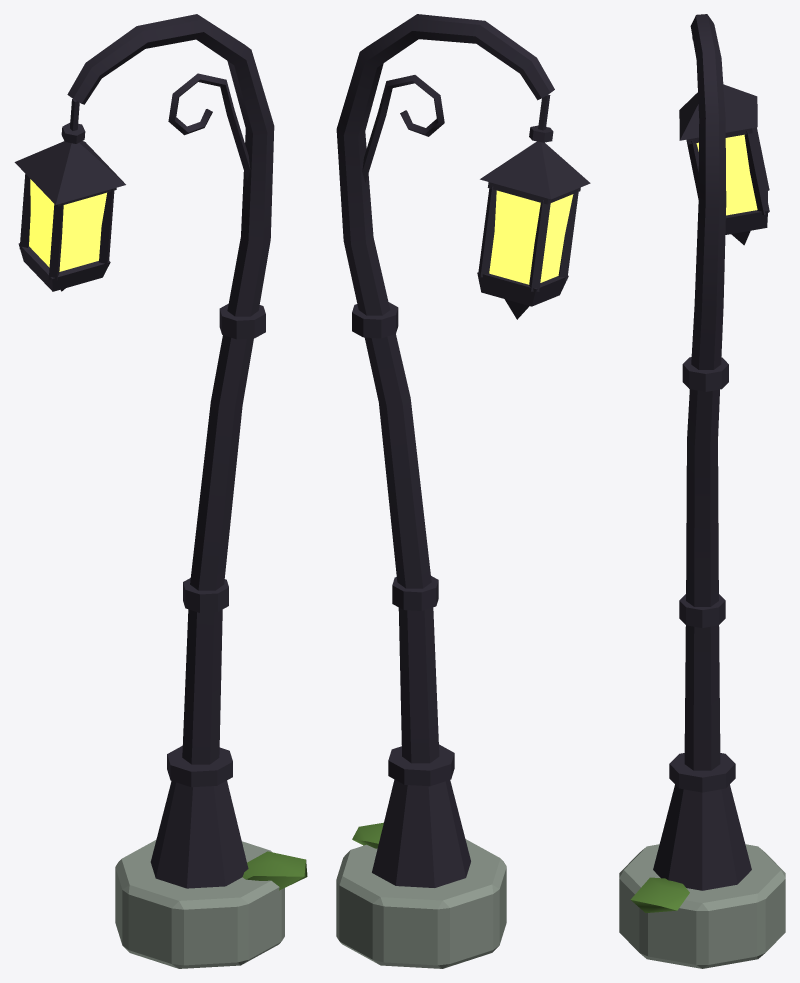
File: crooked_lamp.glb
3 renders of one model, left to right at view 1: azimuth 30°, elevation 25°; view 2: azimuth 150°, elevation 25°; view 3: azimuth 270°, elevation 25°, orthographic. The views are drawn at different scales.
Parts seen in each view (by area): view 1: crooked_lamp; view 2: crooked_lamp; view 3: crooked_lamp.
Part boxes in pixels (bbox=[...]): crooked_lamp: bbox=[14, 14, 307, 968]; crooked_lamp: bbox=[336, 14, 590, 968]; crooked_lamp: bbox=[619, 14, 785, 968].
Bounding box in the file's own units: 0.8166 × 2.98 × 0.5047.
